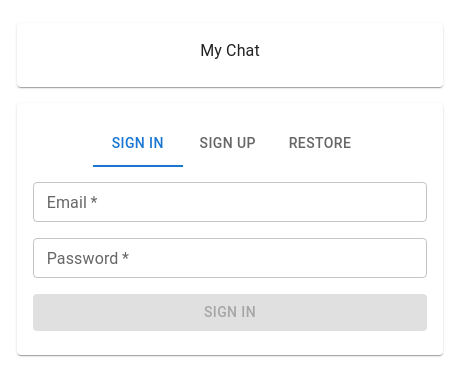
Test: SignInForm › Invalid password
Type "test" into the password field with test id "password-input" at (230,258), box top-left (33, 238), bottom-right (427, 278)
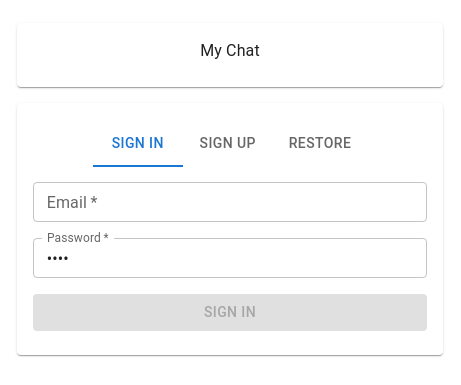
Leave the password field with test id "password-input", box top-left (33, 238), bottom-right (427, 278)
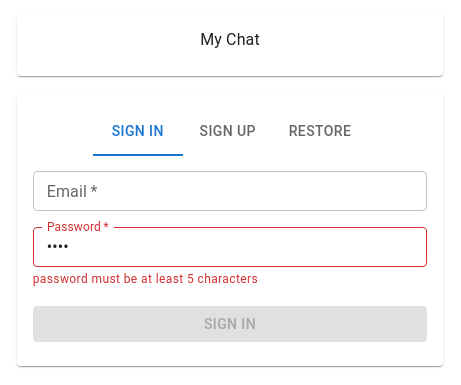
Expected: the button with test id "submit-btn" is disabled, top-left (33, 306), bottom-right (427, 342)
Result: the text with test id "password-validation-message" is shown at top-left (33, 272), bottom-right (258, 286)
